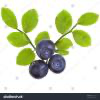Blueberry leaf: (54, 7, 74, 33), (21, 8, 41, 33), (5, 31, 31, 48), (1, 7, 19, 30), (72, 28, 92, 48), (15, 48, 36, 65), (76, 12, 100, 26), (56, 38, 74, 50)
